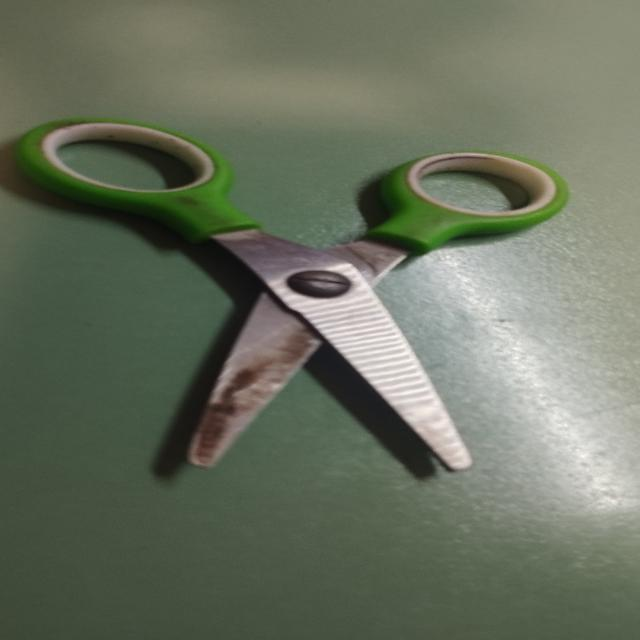tesoura: (11, 105, 582, 481)
